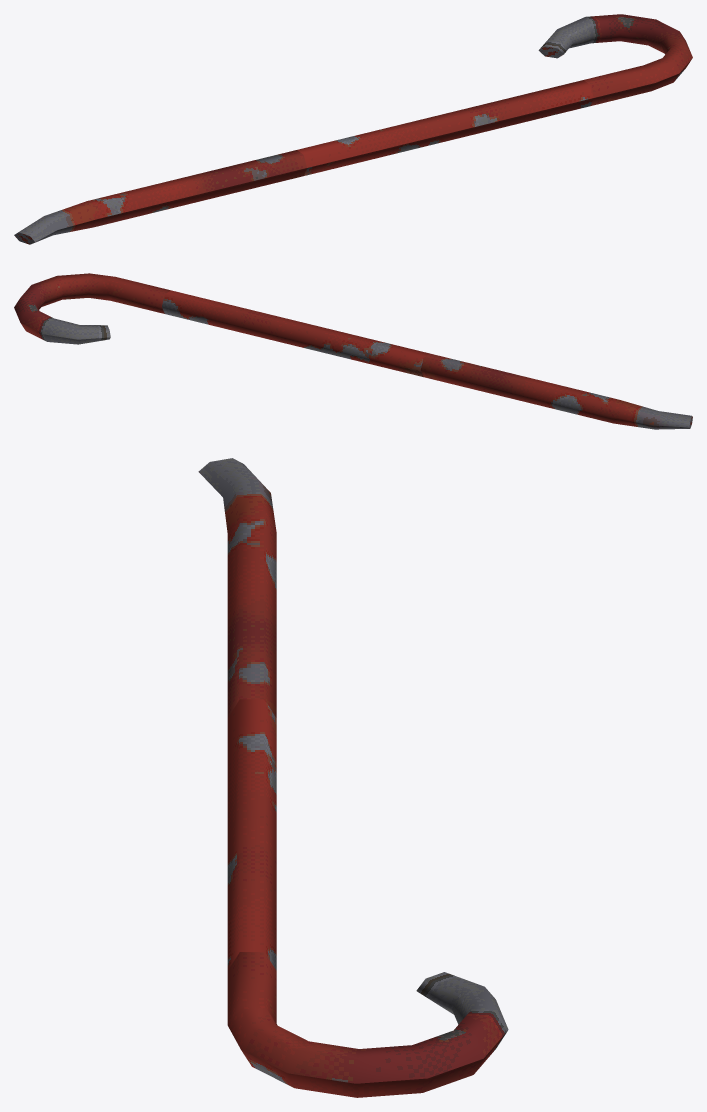
File: crowbar.glb
The picture shows the model from 3 angles, top to bottom: view 1: azimuth 30°, elevation 25°; view 2: azimuth 150°, elevation 25°; view 3: azimuth 270°, elevation 25°; orthographic projection. The views are drawn at different scales.
Visible parts, largest first — view 1: crowbar; view 2: crowbar; view 3: crowbar.
Boxes of the visible parts, x1,y1,x2,y2 form: crowbar: [14, 14, 692, 244]; crowbar: [14, 273, 692, 429]; crowbar: [198, 458, 508, 1097].
Bounding box in the file's own units: 0.5678 × 0.0165 × 0.1201.
1 material, 1 textured.
